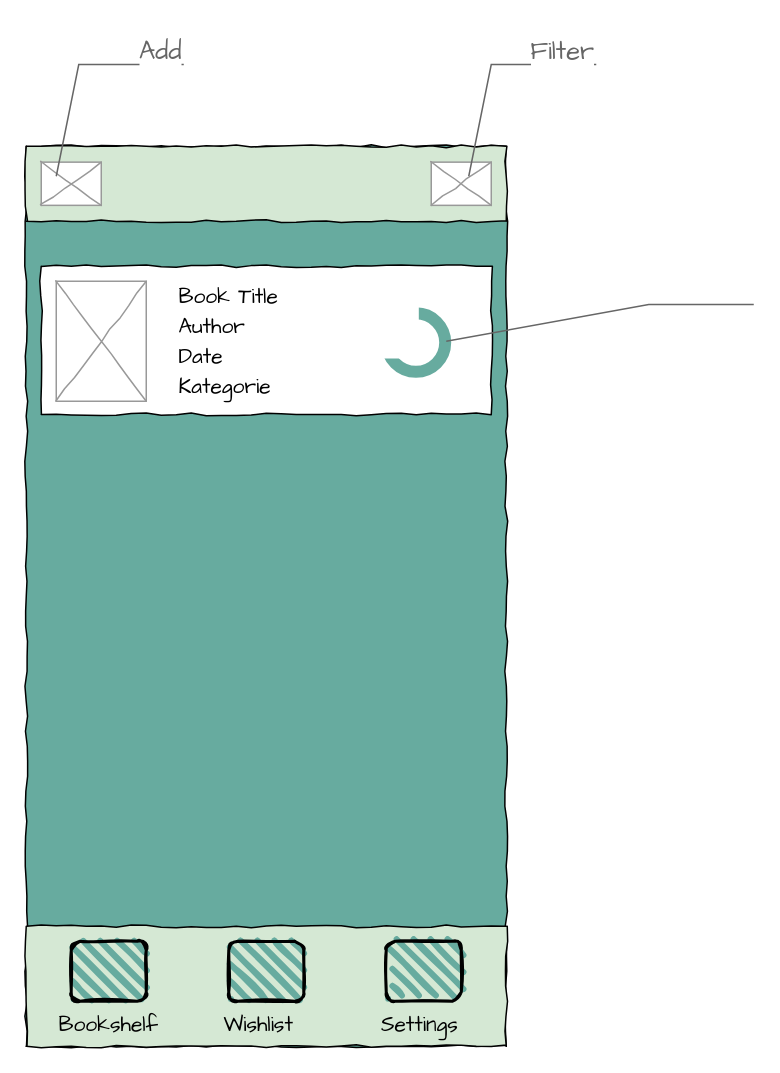
The diagram is 780 pixels wide and 1073 high, and some of its shapes have lost their labels. The centre of each missing label's shape, as x and y in pixels:
"Cover" goes at point 100,340.
"Progess (read)" goes at point 599,303.
